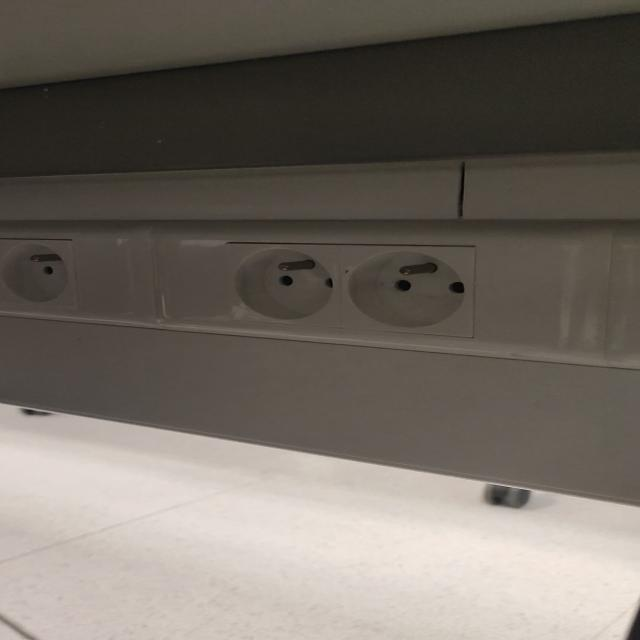house plug: (341, 245, 473, 335), (227, 245, 341, 326)
